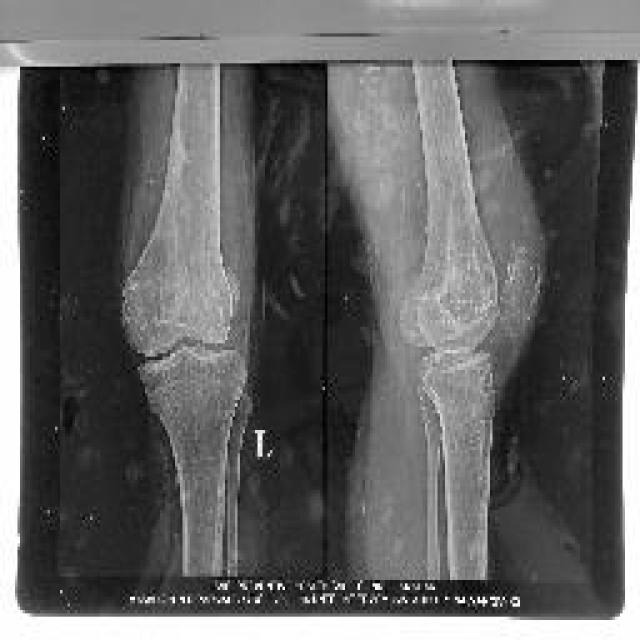bone-cancer: (448, 232, 534, 325)
